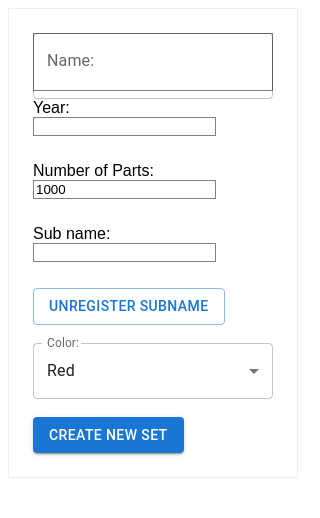
Test case: SetForm3 › should display required error when name is invalid
Click the button "Create new set" at (108, 435), box [33,416,184,453]
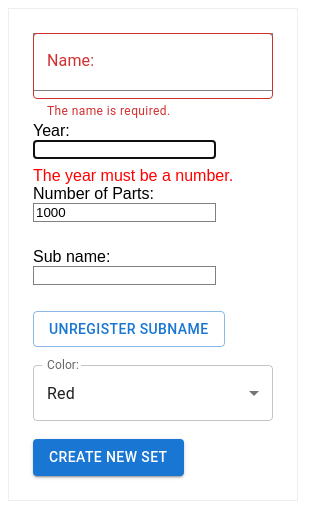
Expected: the text "The name is required." is shown, [47,104,170,118]
